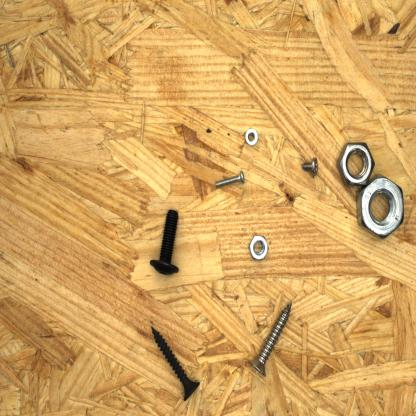screw: (150, 322, 209, 406), (246, 298, 298, 382), (147, 204, 185, 280), (212, 163, 250, 191), (300, 155, 322, 179)
